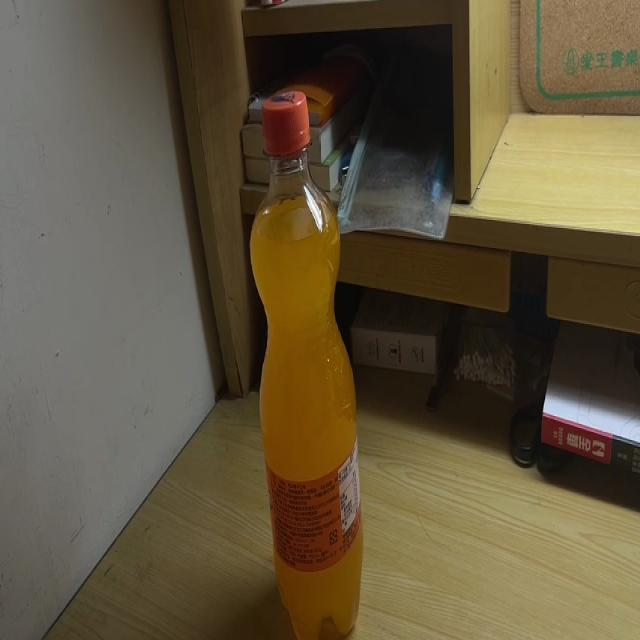Fanta: (249, 89, 364, 640)
